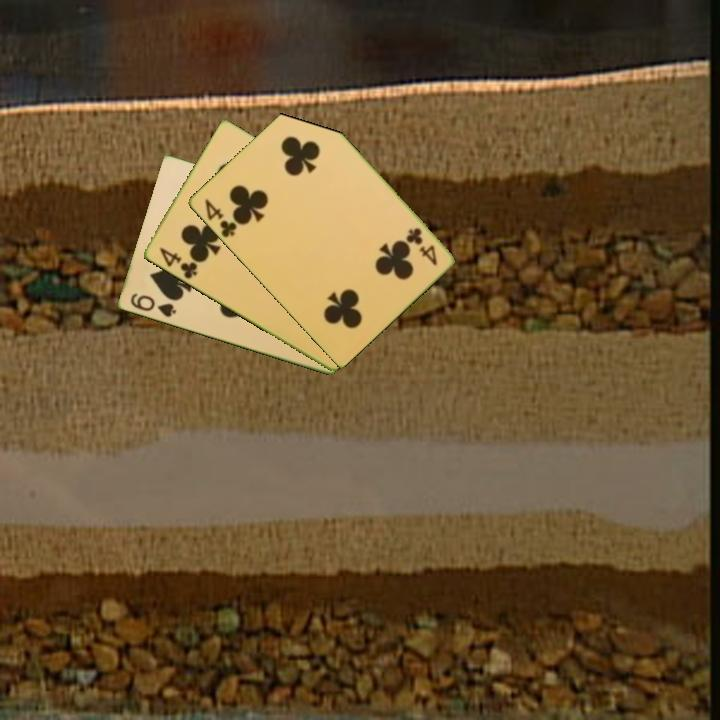4c: (155, 244, 200, 282), (201, 195, 239, 240), (403, 224, 440, 269)
6s: (127, 290, 179, 320)
